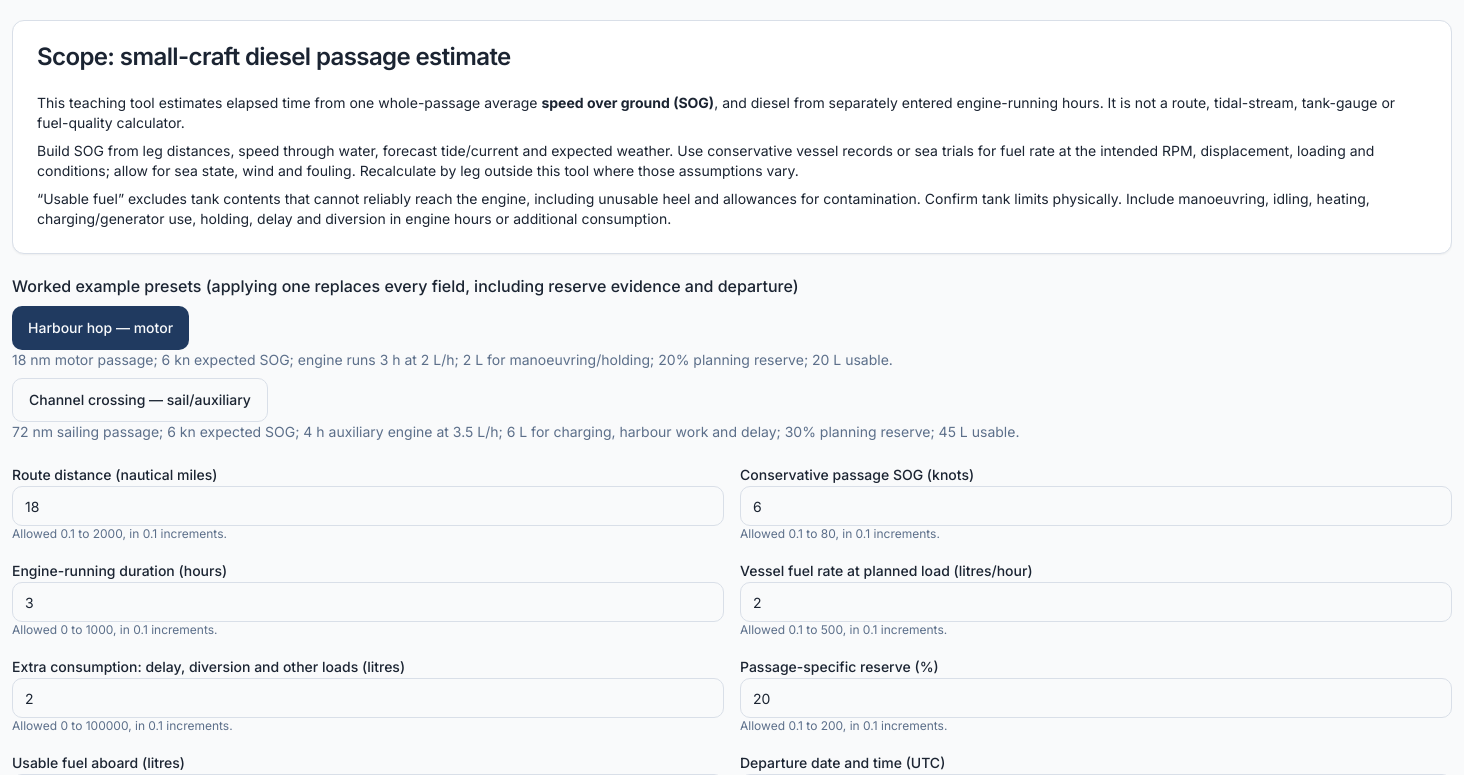
Scenario: FuelCalculator › keeps native and structured step validity aligned
Replace the text in the number field labelled "Route distance (nautical miles)" with "18.05" at (368, 506), box x1=12 y1=486 x2=724 y2=526
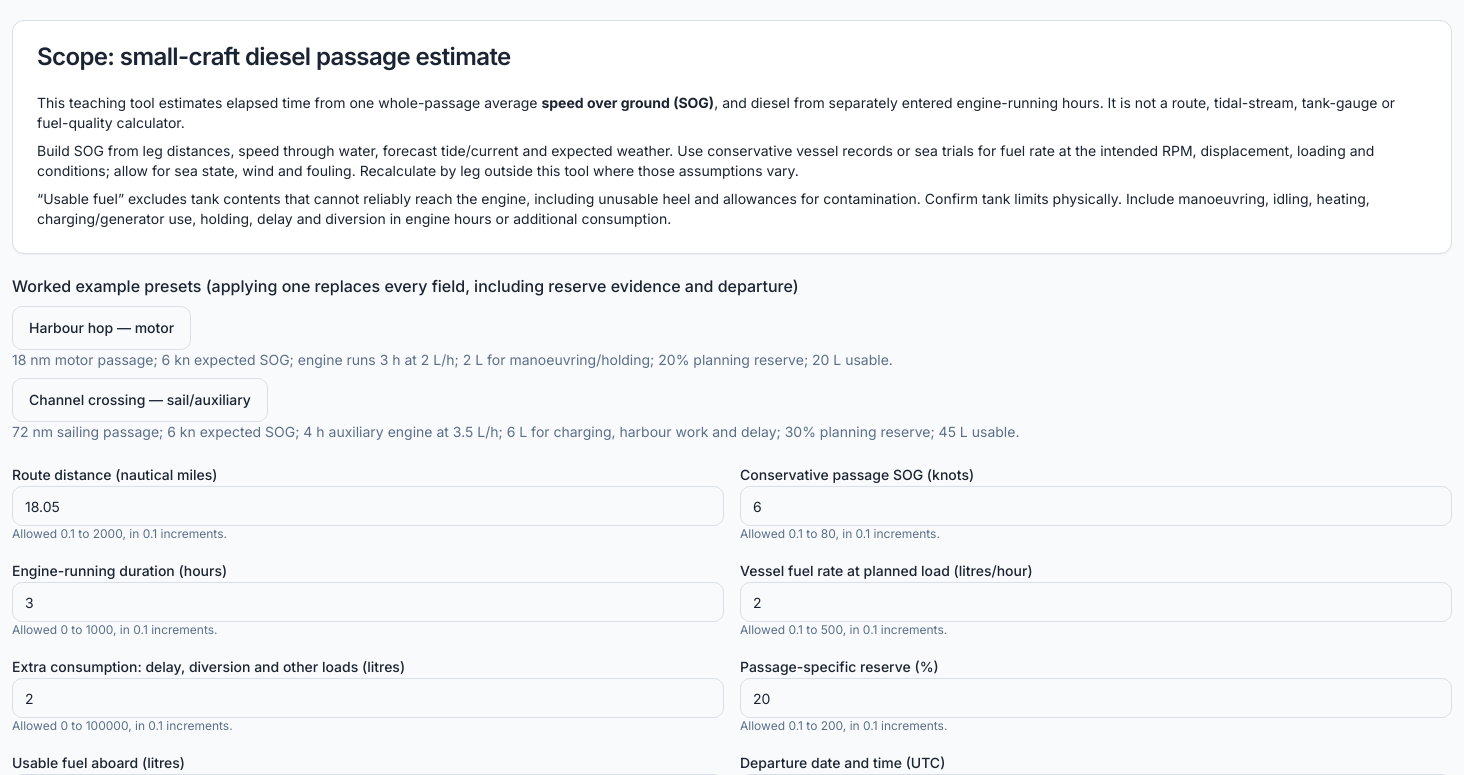
Expected: the text "increments of 0.1" is not shown
Leave the number field labelled "Route distance (nautical miles)", box x1=12 y1=486 x2=724 y2=526
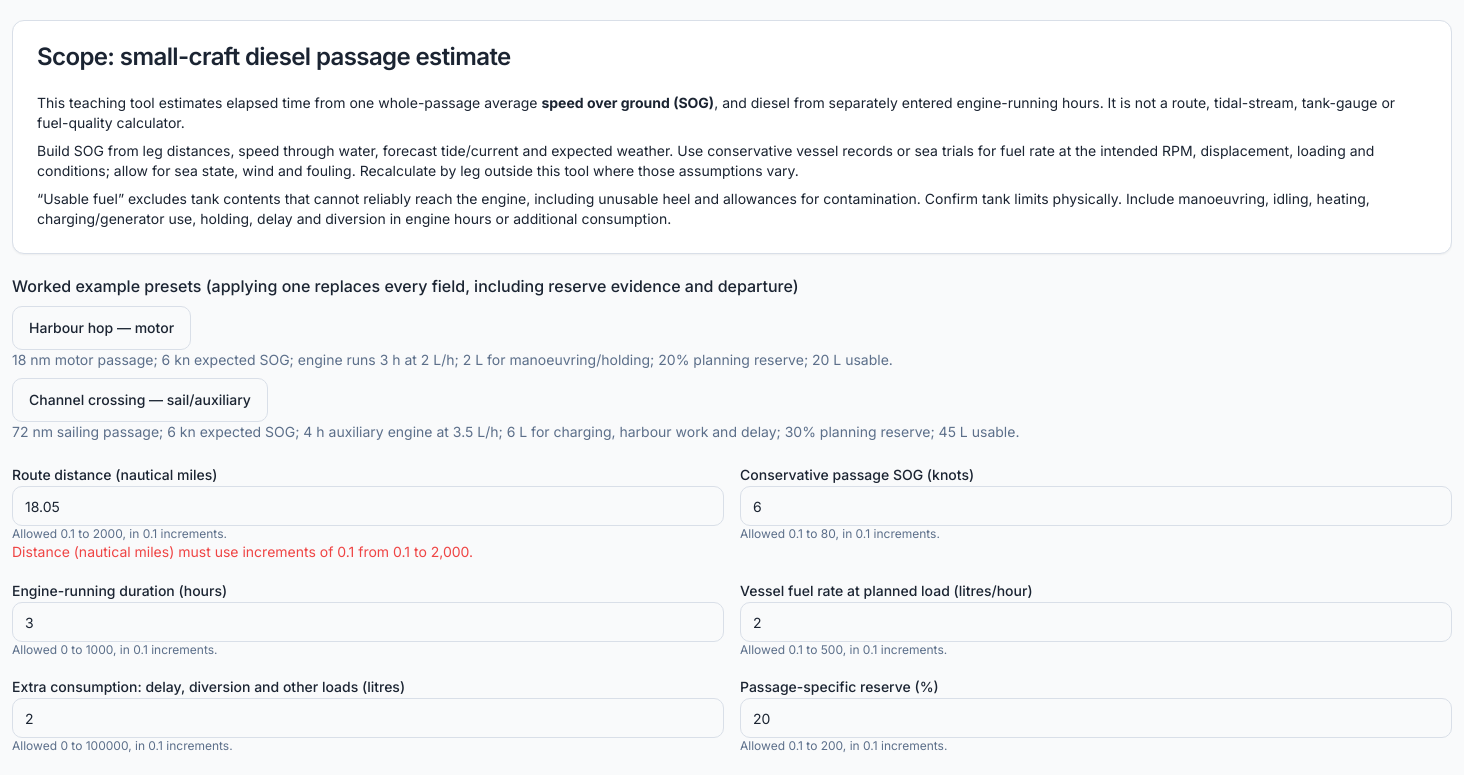
Now the text "Distance (nautical miles) must use increments of 0.1 from 0.1 to 2,000." is shown, box x1=12 y1=543 x2=473 y2=560
Replace the text in the number field labelled "Route distance (nautical miles)" with "18.1" at (368, 506), box x1=12 y1=486 x2=724 y2=526
(page scrolled)
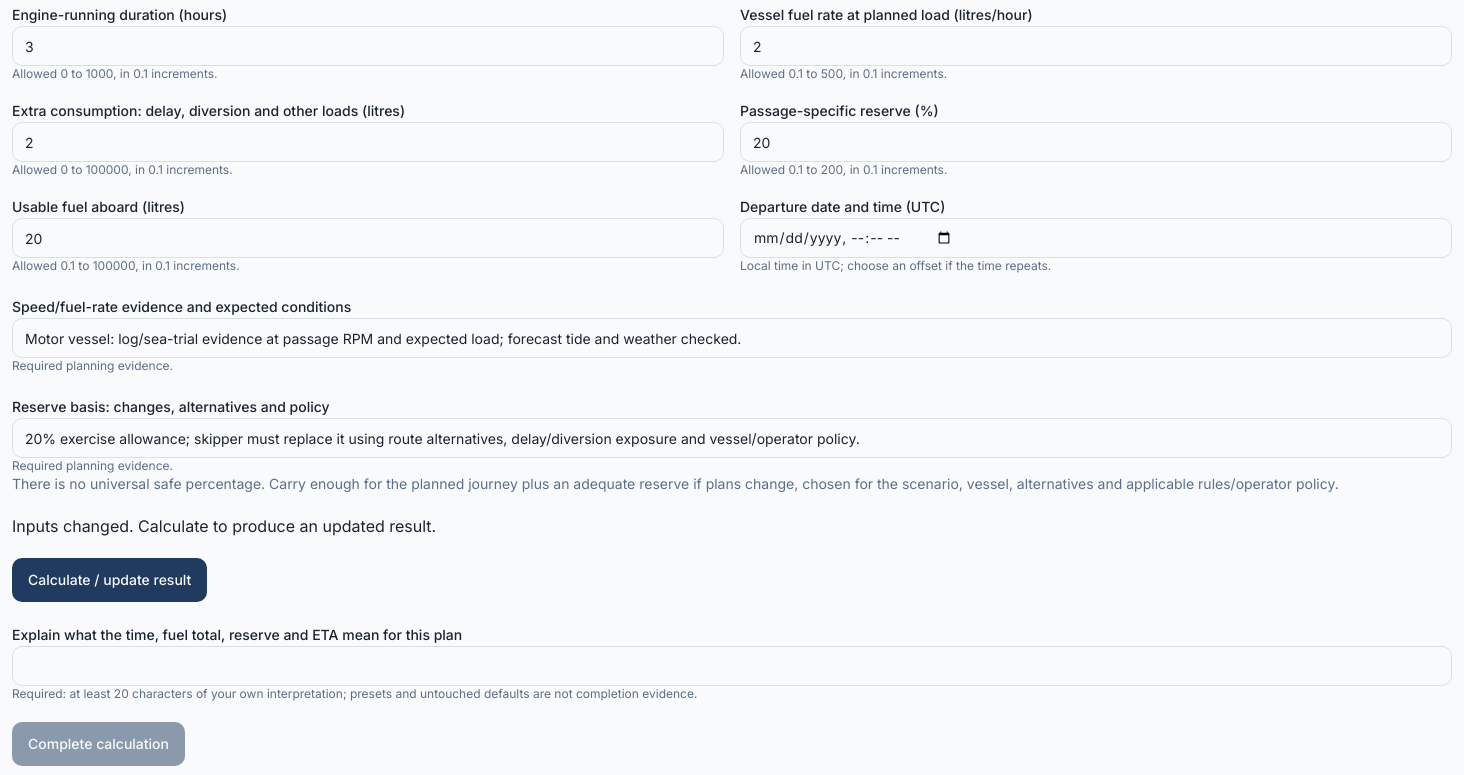
Now the button "Calculate / update result" is enabled, box x1=12 y1=558 x2=207 y2=602
